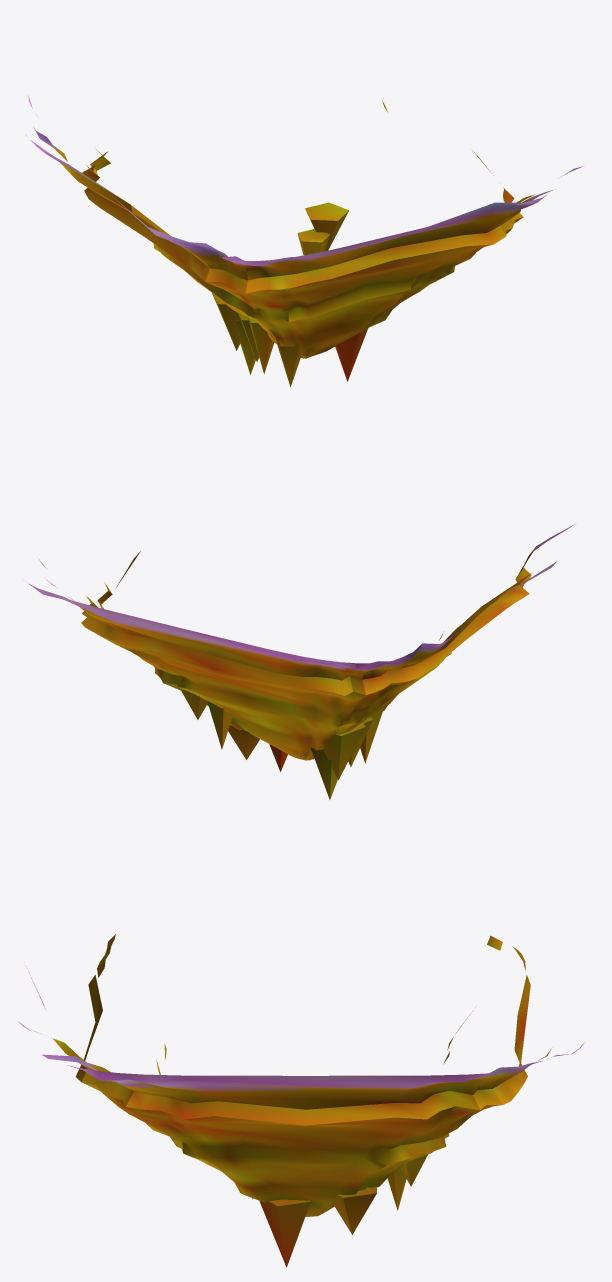
Rendered from env_island_underside.glb.
3 views of the same model, one above another, from view 1: azimuth 30°, elevation 25°; view 2: azimuth 150°, elevation 25°; view 3: azimuth 270°, elevation 25° (orthographic). The views are drawn at different scales.
Parts seen in each view (by area): view 1: env_island_underside; view 2: env_island_underside; view 3: env_island_underside.
Part boxes in pixels (<box>): env_island_underside: <box>25,95,582,386</box>; env_island_underside: <box>28,524,575,799</box>; env_island_underside: <box>18,934,583,1267</box>.
Size of the model in its own units: 2 by 1.12 by 2.
